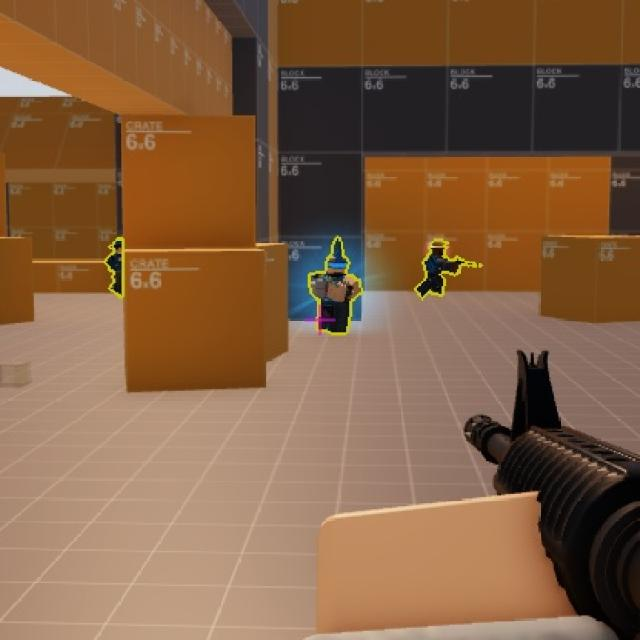player: (321, 240, 355, 340), (417, 238, 459, 306), (108, 242, 126, 292)
